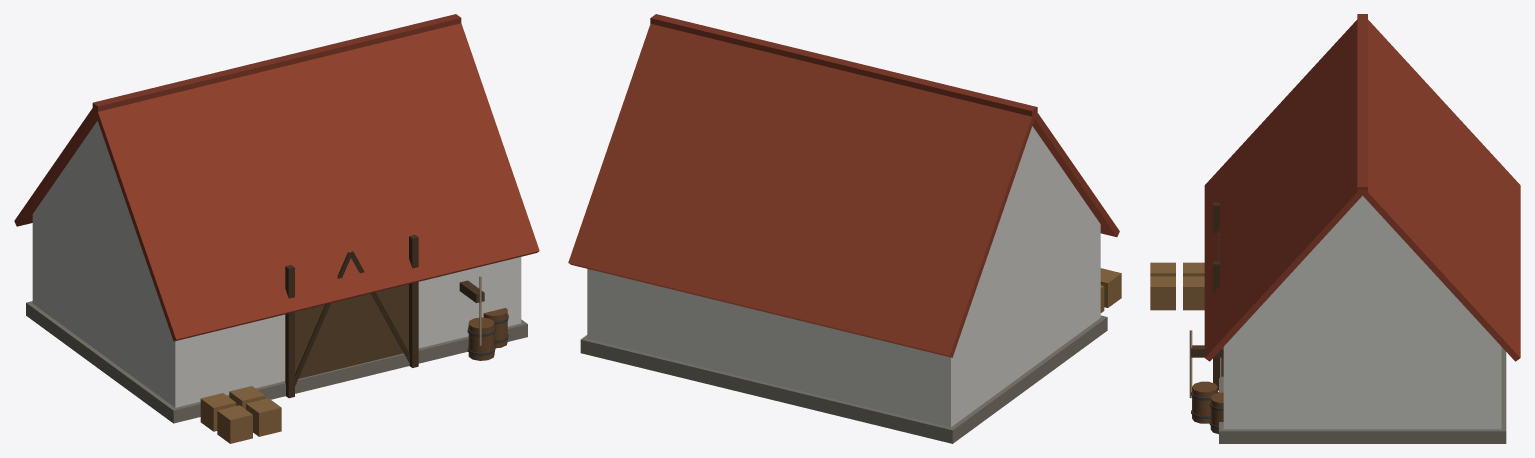
The model's file is procedural_warehouse@4.glb.
3 views of the same model, side by side, from view 1: azimuth 30°, elevation 25°; view 2: azimuth 150°, elevation 25°; view 3: azimuth 270°, elevation 25° (orthographic). The views are drawn at different scales.
Visible parts, largest first — view 1: part_0; view 2: part_0; view 3: part_0.
Part boxes in pixels (x1,y1,x2,y2): part_0: [14, 14, 539, 443]; part_0: [568, 14, 1121, 443]; part_0: [1150, 14, 1520, 443].
Size of the model in its own units: 8.82 by 6.17 by 7.98.
